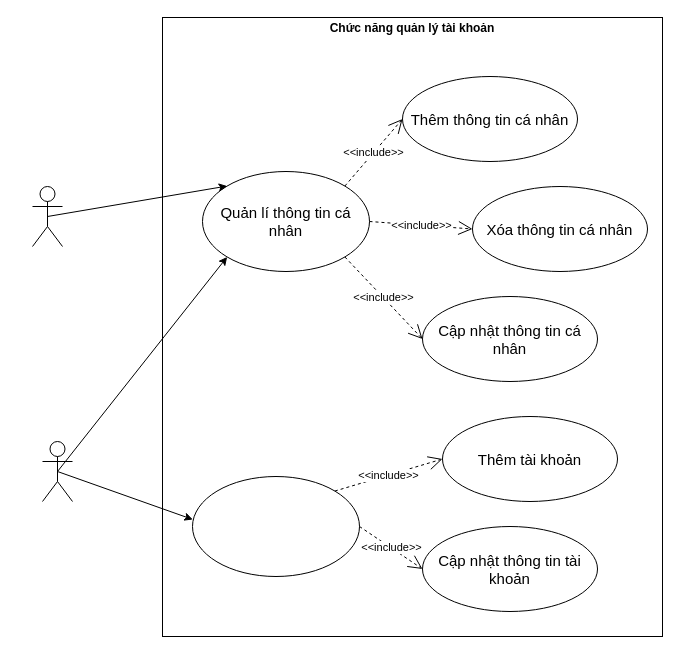
This 680x654 diagram has some shape labels left out. Each missing label, with the centre of its shape:
"Người Mua" goes at (47,216).
"Người quản trị" goes at (57,471).
"Quản lí tài khoản người mua" goes at (276,526).
